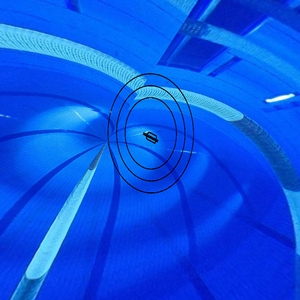circle: (105, 69, 199, 199)
submarine: (138, 128, 165, 148)
